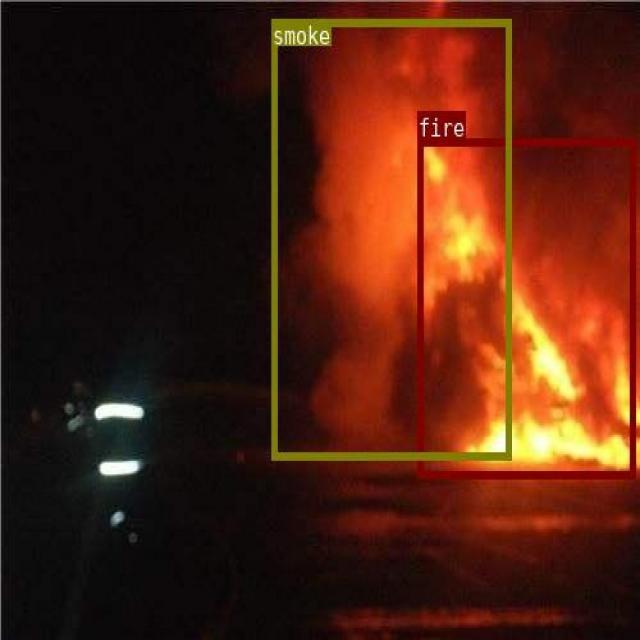fire: (417, 138, 634, 478)
smoke: (271, 18, 510, 459)
